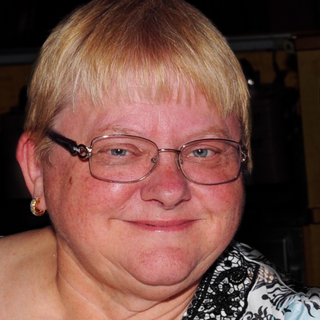eye: (97, 141, 143, 164), (178, 143, 222, 162)
